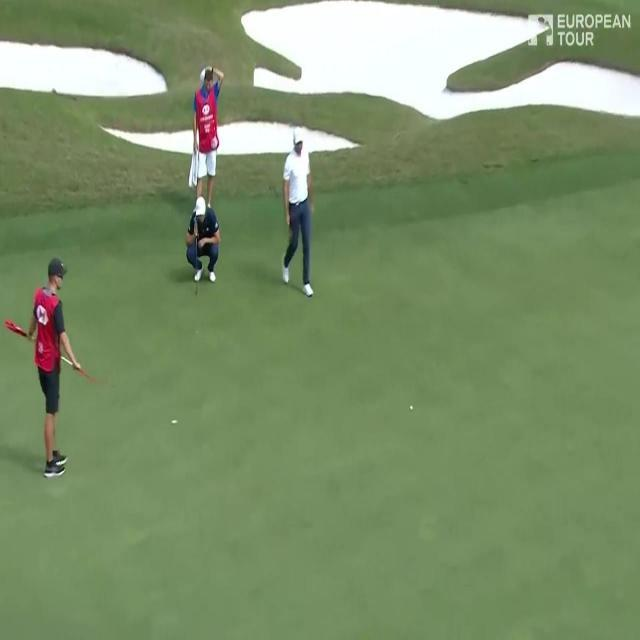GolfBall: (407, 399, 415, 415)
